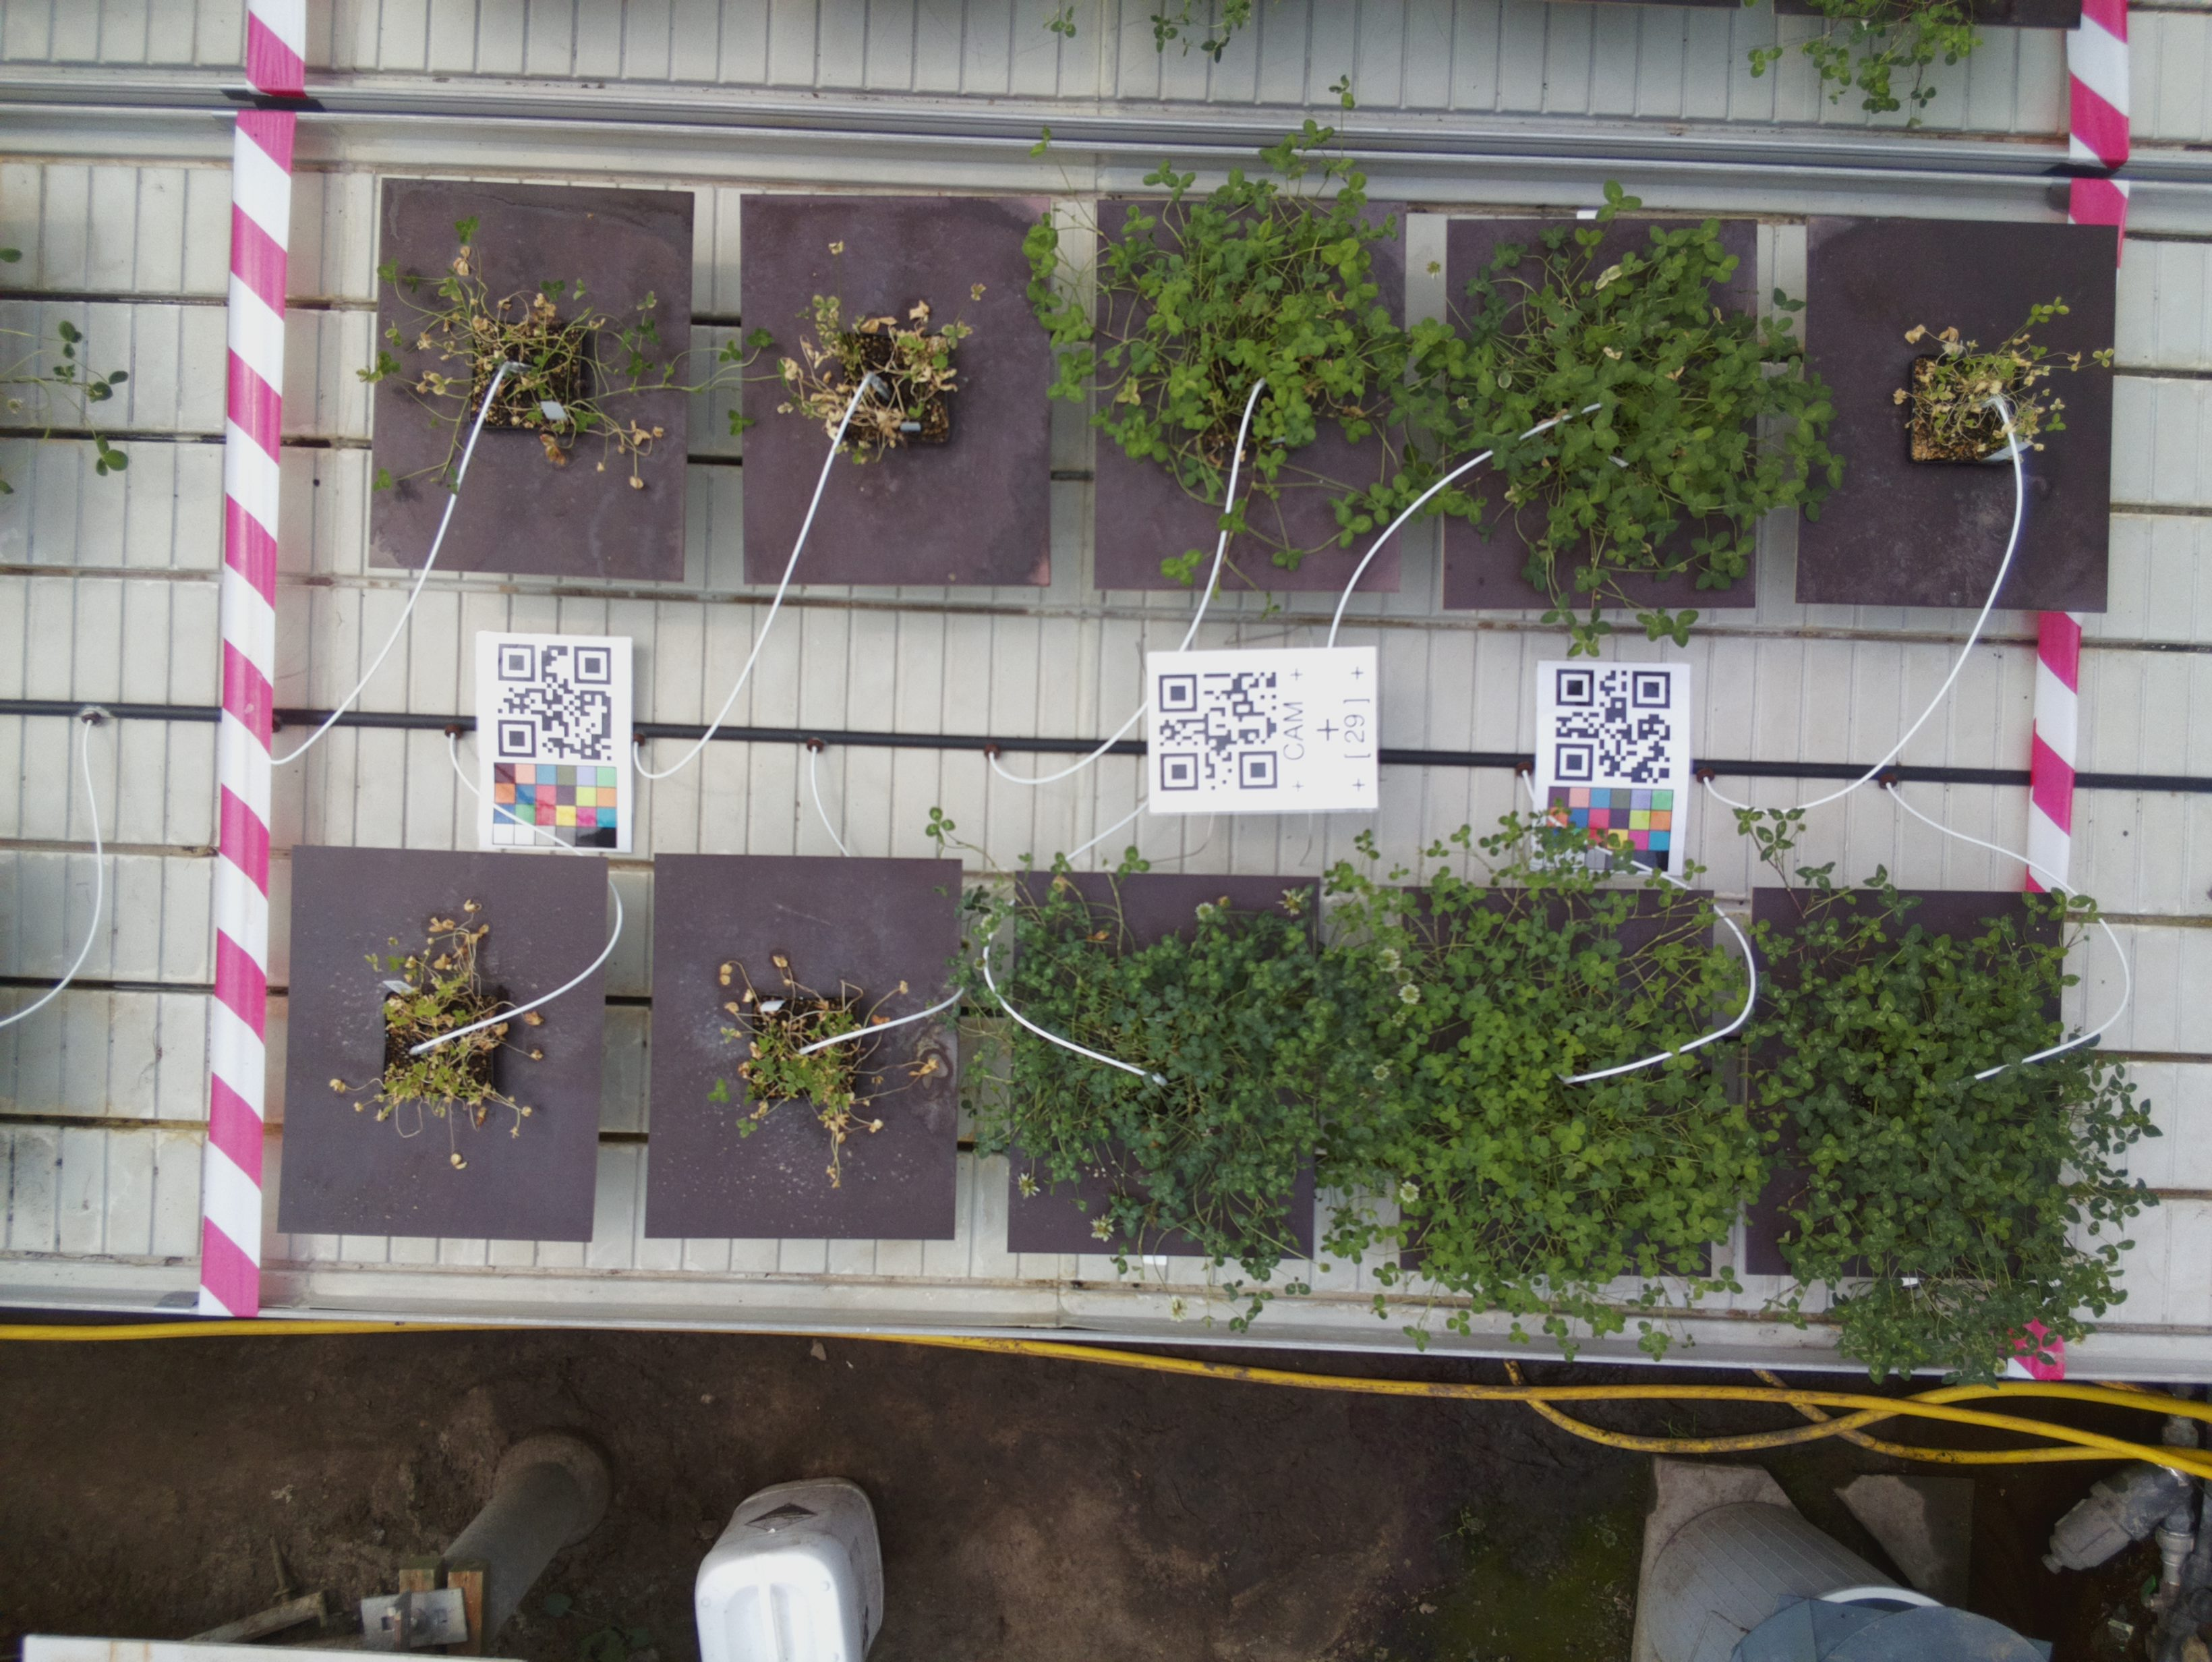POT: (1388, 883, 1730, 1278), (372, 173, 693, 583), (1748, 883, 2067, 1288), (286, 843, 604, 1248), (732, 189, 1051, 588), (1006, 866, 1323, 1266), (1091, 190, 1405, 588), (646, 855, 960, 1250), (1809, 213, 2118, 611), (1444, 216, 1753, 608)
QRCODE: (1145, 648, 1379, 810)
QRCOLOR: (477, 630, 634, 850), (1536, 662, 1690, 876)
